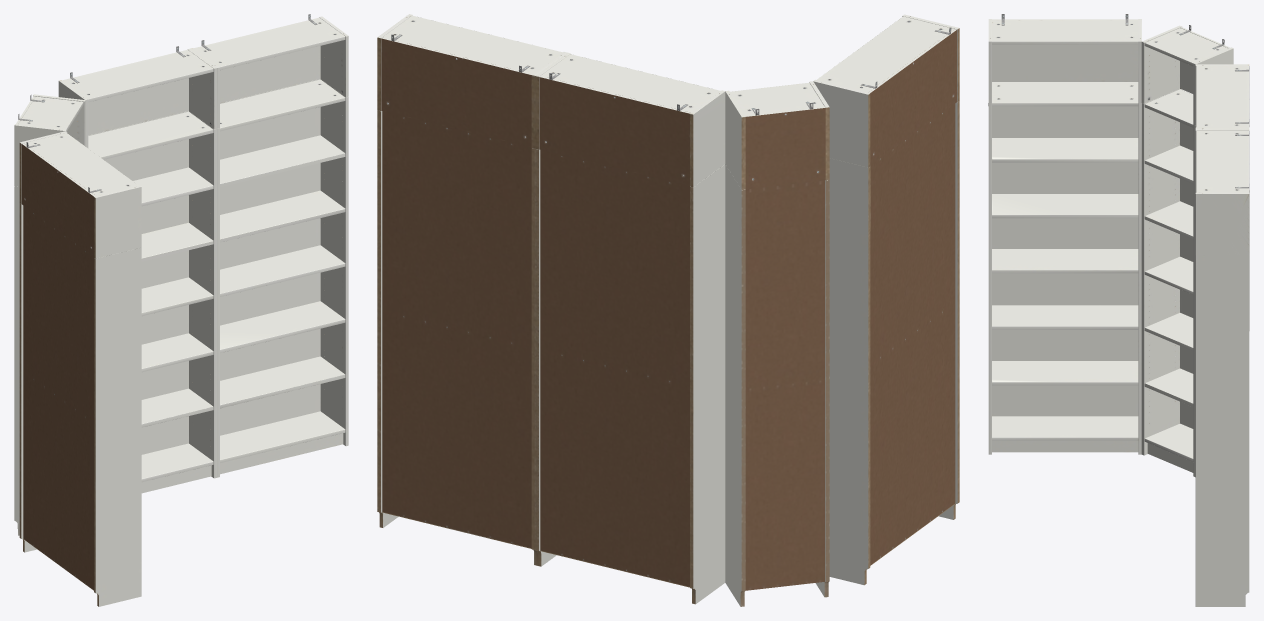
Rendered from billy_rega_59017838.glb.
3 views of the same model, side by side, from view 1: azimuth 30°, elevation 25°; view 2: azimuth 150°, elevation 25°; view 3: azimuth 270°, elevation 25° (orthographic). The views are drawn at different scales.
Parts seen in each view (by area): view 1: billy_rega_59017838; view 2: billy_rega_59017838; view 3: billy_rega_59017838.
Boxes of the visible parts, x1=… form: billy_rega_59017838: x1=14, y1=14, x2=348, y2=606; billy_rega_59017838: x1=377, y1=14, x2=959, y2=606; billy_rega_59017838: x1=988, y1=14, x2=1249, y2=606.
Bounding box in the file's own units: 2.16 × 2.4 × 1.36.
1 material, 1 textured.
